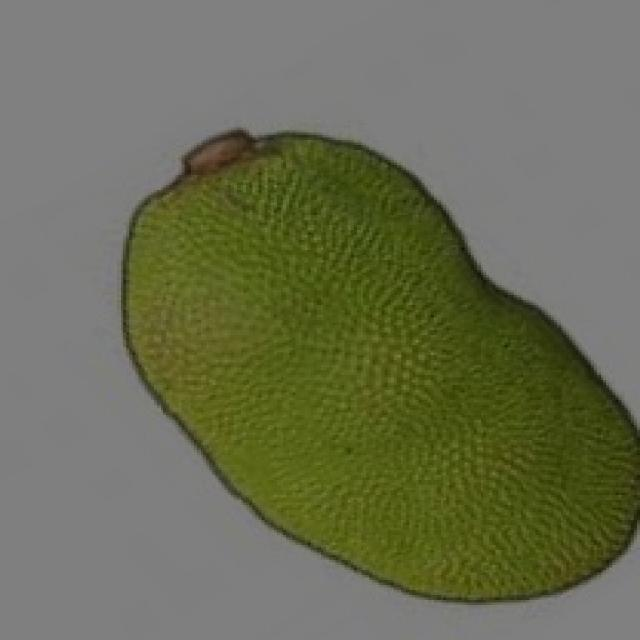Fruit: (252, 247, 640, 635)
